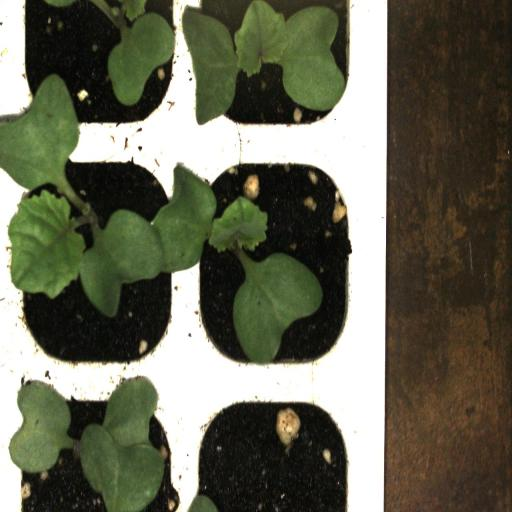Folha: (233, 253, 323, 365)
Germinacao: (15, 139, 189, 375), (188, 145, 360, 376), (186, 0, 364, 145), (12, 376, 190, 512), (16, 0, 182, 138)
